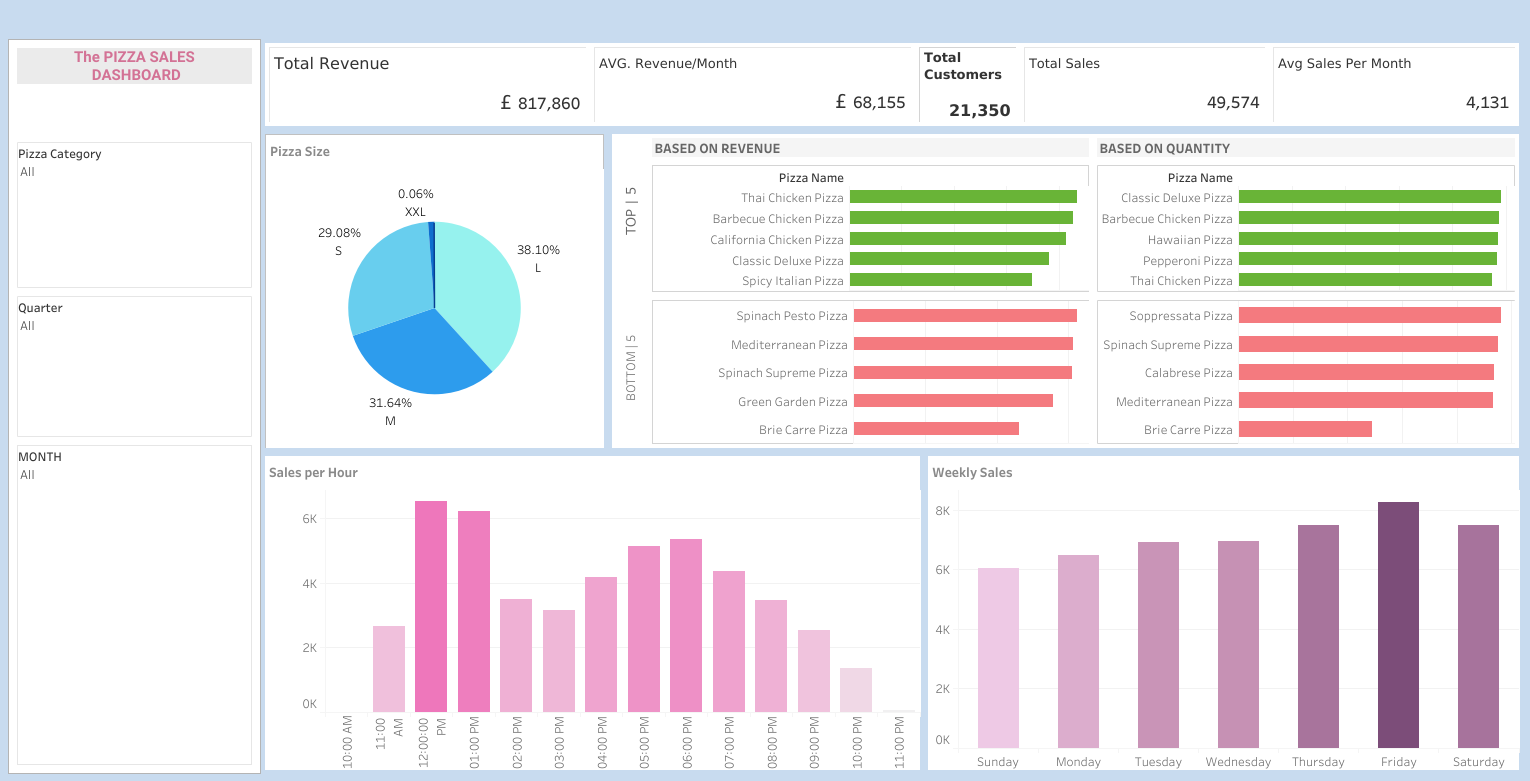

Layout of this report page (visuals, bound fields, positions):
{"tool":"tableau","page":{"name":"Pizza_sales_dashboard_complete","canvas":[1000,1000],"units":"permille","ordinal":0},"visuals":[{"type":"worksheet","title":"Total Revenue","mark":"Automatic","box":[172.5,54.2,196.1,107.3]},{"type":"worksheet","title":"Average","mark":"Automatic","box":[368.6,54.2,196.1,107.3]},{"type":"worksheet","title":"Customer","mark":"Automatic","box":[564.8,54.2,101.5,107.3]},{"type":"worksheet","title":"Total sales Per year","mark":"Automatic","box":[666.2,54.2,163.3,107.3]},{"type":"worksheet","title":"Avg_salspermonth","mark":"Automatic","box":[829.5,54.2,163.3,107.3]},{"type":"text","box":[7.8,55.4,159.2,69.9]},{"type":"worksheet","title":"Size","mark":"Pie","box":[170.1,166.5,209.4,411.2]},{"type":"text","box":[381.9,171.5,24.8,199.9]},{"type":"text","box":[406.7,171.5,307.4,38.7]},{"type":"text","box":[714.1,171.5,278.6,38.7]},{"type":"filter","title":"Size","param":"[federated.1mqp79w0yednqe11lxgkv07hkz76].[Action (Pizza Category)]","box":[7.8,176.2,159.2,197.3]},{"type":"worksheet","title":"Top 5 by Revenue","mark":"Automatic","rows":["pizza_name"],"cols":["total_price"],"box":[406.7,210.2,307.4,167.8]},{"type":"worksheet","title":"Top 5 by quantity","mark":"Automatic","rows":["pizza_name"],"cols":["Quantity (copy)_1665487445566685190"],"box":[714.1,210.2,278.6,167.8]},{"type":"text","box":[381.9,371.4,24.8,201.3]},{"type":"filter","title":"Sales per month","param":"[federated.1mqp79w0yednqe11lxgkv07hkz76].[qr:order_date:ok]","box":[7.8,373.5,159.2,190]},{"type":"worksheet","title":"Bottom 5 by revenue","mark":"Automatic","rows":["pizza_name"],"cols":["total_price"],"box":[406.8,378.3,307.2,194.8]},{"type":"worksheet","title":"Bottom 5 by quantity","mark":"Automatic","rows":["pizza_name"],"cols":["Quantity (copy)_1665487445566685190"],"box":[713.9,378.3,278.8,194.8]},{"type":"filter","title":"Order trend per time","param":"[federated.1mqp79w0yednqe11lxgkv07hkz76].[Action (MONTH(Order Date))]","box":[7.8,563.5,159.2,420.3]},{"type":"worksheet","title":"Order trend per time","mark":"Automatic","rows":["order_id"],"box":[170.1,577.7,433.3,412.4]},{"type":"worksheet","title":"Sales per month","mark":"Bar","rows":["quantity"],"cols":["order_date"],"box":[603.4,577.7,391.8,412.4]}]}

Visuals, with their boxes on the dashboard's canvas, which has no fixed pixel size, in thousandths of its width and height (x1, y1, x2, y2). These are canvas units, not pixel positions in the 1530x781 screenshot, which may show the page scaled, cropped or inside an application window:
"Total Revenue" worksheet: x1=172 y1=54 x2=369 y2=162
"Average" worksheet: x1=369 y1=54 x2=565 y2=162
"Customer" worksheet: x1=565 y1=54 x2=666 y2=162
"Total sales Per year" worksheet: x1=666 y1=54 x2=830 y2=162
"Avg_salspermonth" worksheet: x1=830 y1=54 x2=993 y2=162
text: x1=8 y1=55 x2=167 y2=125
"Size" worksheet (Pie marks): x1=170 y1=166 x2=380 y2=578
text: x1=382 y1=172 x2=407 y2=371
text: x1=407 y1=172 x2=714 y2=210
text: x1=714 y1=172 x2=993 y2=210
"Size" filter: x1=8 y1=176 x2=167 y2=374
"Top 5 by Revenue" worksheet: x1=407 y1=210 x2=714 y2=378
"Top 5 by quantity" worksheet: x1=714 y1=210 x2=993 y2=378
text: x1=382 y1=371 x2=407 y2=573
"Sales per month" filter: x1=8 y1=374 x2=167 y2=564
"Bottom 5 by revenue" worksheet: x1=407 y1=378 x2=714 y2=573
"Bottom 5 by quantity" worksheet: x1=714 y1=378 x2=993 y2=573
"Order trend per time" filter: x1=8 y1=564 x2=167 y2=984
"Order trend per time" worksheet: x1=170 y1=578 x2=603 y2=990
"Sales per month" worksheet (Bar marks): x1=603 y1=578 x2=995 y2=990
